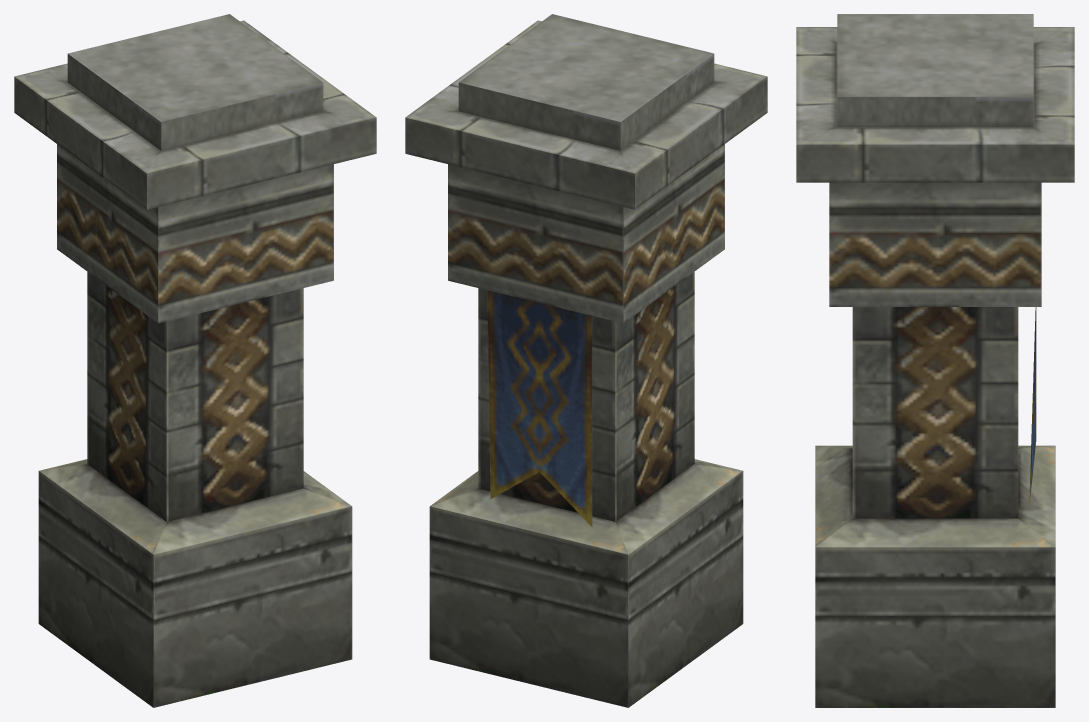
Rendered from SC_guowangchengbao_12.FBX.
3 renders of one model, left to right at view 1: azimuth 30°, elevation 25°; view 2: azimuth 150°, elevation 25°; view 3: azimuth 270°, elevation 25°, orthographic. The views are drawn at different scales.
Parts seen in each view (by area): view 1: SC_guowangchengbao_12; view 2: SC_guowangchengbao_12; view 3: SC_guowangchengbao_12.
Boxes of the visible parts, box(x1,y1,x2,y2) form: SC_guowangchengbao_12: box(14, 14, 376, 707); SC_guowangchengbao_12: box(405, 14, 767, 707); SC_guowangchengbao_12: box(796, 14, 1074, 707).
Size of the model in its own units: 139 by 331 by 139.
